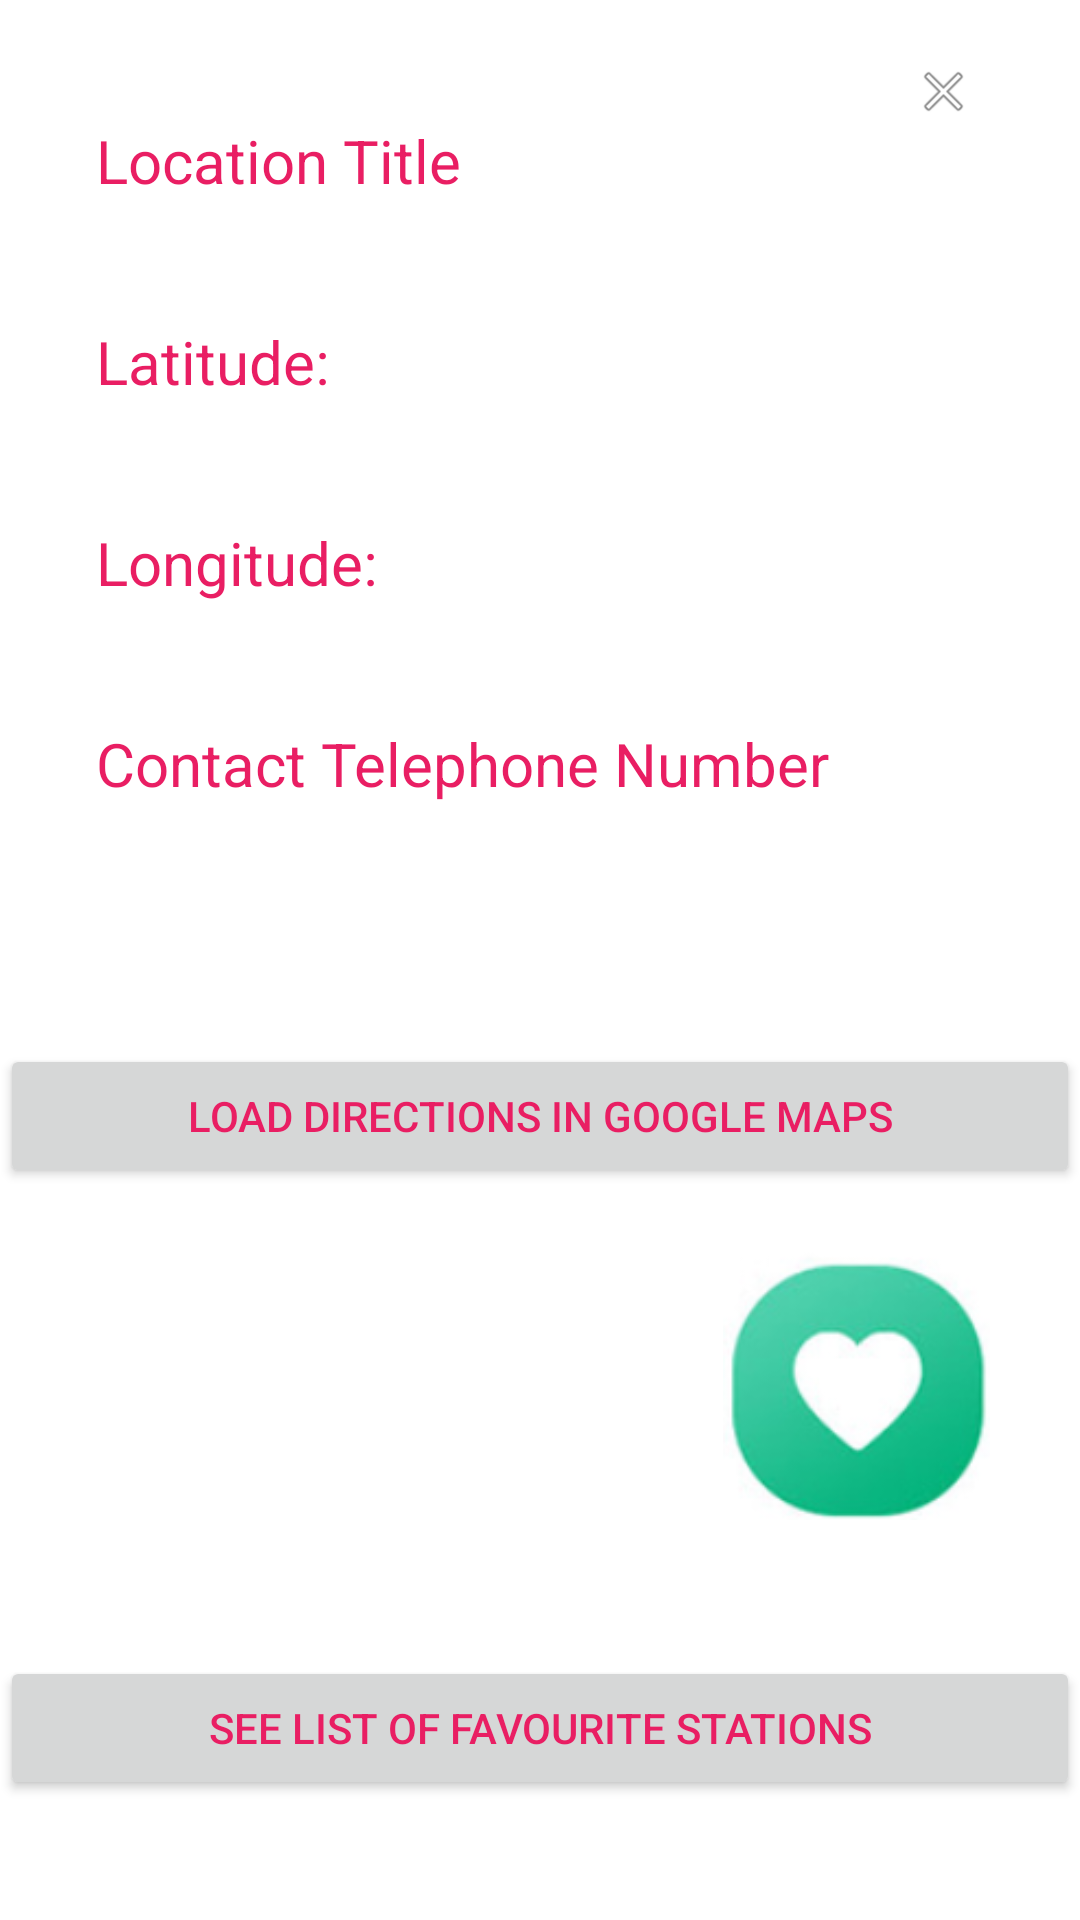

Where to tap for icons on this 1080px x 1920px app screen, as (x,y):
close clear cancel: (943,91)
favorites: (858,1390)
